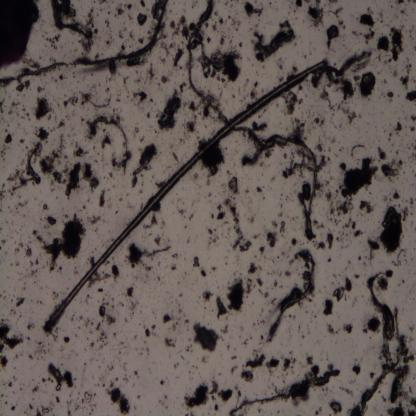Background material: (188, 0, 230, 124), (41, 215, 86, 274), (195, 39, 243, 83), (340, 155, 378, 199), (380, 204, 404, 256), (156, 91, 184, 131), (39, 133, 65, 175), (228, 206, 252, 251), (0, 169, 26, 207), (132, 143, 157, 178), (324, 190, 355, 218), (192, 322, 218, 354), (201, 146, 226, 176), (47, 364, 74, 391), (181, 384, 209, 410), (329, 98, 356, 124), (106, 386, 130, 414), (0, 322, 24, 350), (226, 279, 245, 314), (325, 4, 348, 31), (389, 26, 406, 62), (280, 159, 306, 182), (65, 162, 81, 198), (82, 91, 112, 110), (398, 334, 415, 365), (93, 318, 109, 350), (170, 15, 190, 40), (307, 0, 324, 29), (32, 338, 52, 362), (34, 97, 54, 121), (82, 164, 99, 192), (360, 71, 377, 99), (127, 242, 143, 267), (90, 269, 112, 287), (324, 24, 340, 48), (283, 91, 297, 117), (245, 354, 266, 370), (363, 316, 381, 334), (381, 163, 402, 178), (243, 3, 264, 18), (226, 11, 241, 31), (215, 296, 228, 318), (46, 34, 63, 50), (100, 131, 115, 149), (351, 141, 366, 159), (362, 26, 376, 45), (32, 229, 46, 248), (119, 359, 130, 383), (78, 40, 94, 56), (359, 11, 376, 26), (0, 144, 11, 167), (132, 344, 148, 359), (359, 199, 375, 214), (264, 229, 276, 249), (86, 213, 102, 228), (286, 62, 298, 82), (62, 94, 79, 108), (34, 128, 51, 142), (158, 39, 171, 57), (332, 284, 345, 302), (377, 35, 390, 53), (376, 144, 389, 162), (407, 134, 416, 160), (8, 100, 21, 118), (110, 152, 123, 170), (228, 173, 239, 194), (146, 62, 157, 83), (128, 297, 139, 318), (266, 358, 280, 374), (15, 79, 32, 92), (172, 48, 184, 66), (366, 238, 381, 252), (24, 55, 39, 69), (249, 80, 259, 101), (252, 121, 268, 134), (87, 6, 96, 29), (103, 292, 115, 309), (72, 395, 84, 412), (323, 298, 333, 318), (98, 187, 107, 209), (328, 399, 342, 413), (164, 336, 178, 350), (219, 389, 233, 403), (222, 194, 237, 207), (338, 385, 354, 397), (149, 213, 161, 229), (388, 402, 404, 414), (201, 288, 213, 304), (343, 275, 353, 294), (240, 370, 255, 382), (104, 30, 114, 48), (241, 333, 253, 348), (114, 1, 124, 19), (325, 323, 337, 338), (185, 120, 196, 136), (177, 204, 187, 221), (218, 322, 230, 336), (53, 170, 65, 184), (169, 317, 180, 332), (83, 290, 94, 305), (396, 1, 407, 16), (110, 264, 121, 279), (253, 337, 264, 352), (117, 26, 127, 42), (246, 278, 254, 298), (97, 303, 107, 319), (408, 394, 416, 414), (136, 13, 149, 25), (399, 74, 410, 88), (192, 256, 203, 270), (111, 107, 122, 121), (402, 204, 410, 223), (74, 144, 85, 157), (0, 356, 10, 370), (0, 181, 7, 201), (4, 132, 14, 146), (252, 318, 266, 328), (138, 90, 148, 104), (282, 359, 292, 373), (248, 262, 258, 276), (316, 116, 326, 130), (233, 383, 241, 400), (265, 269, 282, 277), (66, 399, 74, 416), (160, 394, 169, 409), (202, 107, 211, 122), (327, 232, 334, 251), (13, 348, 24, 360), (46, 215, 58, 226), (36, 83, 48, 94), (207, 235, 219, 246), (344, 222, 357, 232), (406, 88, 416, 101), (314, 140, 324, 153), (310, 366, 320, 379), (394, 121, 403, 135), (150, 323, 159, 337), (210, 380, 219, 394), (85, 402, 94, 416), (27, 320, 37, 332), (140, 262, 152, 272), (258, 288, 268, 300), (154, 233, 162, 248), (16, 296, 26, 308), (344, 322, 354, 334), (162, 314, 172, 326), (107, 314, 117, 326), (0, 97, 6, 116), (86, 254, 96, 265), (7, 308, 18, 318), (294, 117, 305, 127), (279, 250, 289, 261), (352, 365, 362, 376), (391, 191, 403, 200), (314, 240, 326, 249), (63, 112, 75, 121), (127, 30, 136, 42), (378, 392, 387, 404), (352, 228, 364, 237), (320, 88, 328, 101), (25, 247, 33, 260), (295, 0, 305, 10), (29, 268, 39, 278), (339, 160, 348, 171), (306, 355, 315, 366), (328, 135, 337, 146), (126, 287, 135, 298), (224, 0, 238, 7), (48, 178, 55, 192), (176, 302, 183, 316), (160, 74, 168, 86), (276, 58, 284, 70), (153, 202, 161, 214), (283, 267, 291, 279), (256, 276, 264, 288), (132, 176, 139, 189), (272, 276, 279, 289), (216, 212, 226, 221), (258, 110, 268, 119), (254, 185, 263, 195), (169, 262, 179, 271), (330, 217, 341, 225), (336, 229, 344, 240), (246, 213, 254, 224), (58, 119, 66, 130), (84, 394, 92, 405), (271, 382, 278, 394), (144, 326, 151, 338), (191, 170, 198, 182), (41, 405, 50, 414), (407, 123, 416, 132), (173, 361, 182, 370), (50, 292, 59, 301), (145, 110, 153, 120), (314, 406, 322, 416), (119, 340, 127, 350), (200, 355, 208, 365), (178, 82, 188, 90), (125, 3, 133, 13), (139, 133, 146, 144), (280, 219, 285, 234), (276, 210, 285, 218), (22, 114, 31, 122), (386, 90, 395, 98), (104, 17, 110, 29), (192, 0, 200, 9), (271, 219, 279, 228), (103, 75, 112, 83), (32, 384, 41, 392), (105, 363, 113, 372), (84, 316, 90, 328), (260, 244, 266, 256), (34, 406, 42, 415), (292, 356, 296, 374), (200, 269, 208, 278), (0, 292, 7, 302), (108, 170, 115, 180), (138, 36, 145, 46), (90, 83, 100, 90), (134, 369, 140, 380), (18, 200, 29, 206), (409, 195, 414, 208), (18, 159, 26, 167), (0, 314, 8, 322), (26, 352, 34, 360), (94, 52, 102, 60), (143, 224, 151, 232), (126, 14, 134, 22), (42, 203, 50, 211), (115, 94, 123, 102), (170, 40, 178, 48), (206, 228, 214, 236), (135, 77, 144, 84), (188, 212, 195, 221), (12, 247, 21, 254), (167, 141, 174, 150), (63, 336, 70, 345), (133, 124, 139, 134), (123, 75, 129, 85), (120, 42, 126, 52), (219, 36, 225, 46), (139, 198, 144, 210), (178, 136, 184, 146), (205, 176, 211, 186), (392, 260, 402, 266), (288, 257, 294, 267), (57, 345, 65, 352), (205, 37, 213, 44), (23, 240, 30, 248), (96, 285, 103, 293), (397, 158, 404, 166), (408, 324, 415, 332), (297, 97, 304, 105), (354, 273, 362, 280), (212, 22, 219, 30), (409, 114, 416, 122), (139, 0, 146, 8), (58, 73, 65, 81), (388, 131, 393, 142), (284, 194, 290, 203), (298, 84, 304, 93), (16, 258, 22, 267), (43, 224, 52, 230), (292, 237, 298, 246), (291, 215, 300, 221), (78, 116, 84, 125), (93, 27, 99, 36), (56, 395, 62, 404), (90, 340, 96, 349), (172, 252, 179, 259), (356, 254, 363, 261), (66, 133, 73, 140), (18, 139, 25, 146), (25, 335, 31, 343), (7, 380, 13, 388), (67, 350, 73, 358), (68, 139, 74, 147), (118, 300, 124, 308), (160, 378, 166, 386), (48, 56, 56, 62), (252, 233, 260, 239), (97, 0, 109, 4), (245, 187, 251, 195), (52, 334, 58, 342), (231, 355, 240, 360), (187, 343, 192, 352), (157, 259, 162, 268), (187, 234, 192, 243), (70, 313, 74, 324), (28, 403, 34, 410), (153, 129, 160, 135), (322, 387, 329, 393), (10, 405, 16, 412), (62, 213, 69, 219), (326, 155, 332, 162), (178, 292, 184, 299), (361, 260, 368, 266), (330, 273, 337, 279), (370, 372, 376, 379), (327, 256, 334, 262), (108, 380, 113, 388), (215, 404, 220, 412), (387, 198, 391, 208), (284, 151, 289, 159), (41, 376, 46, 384), (408, 383, 412, 393), (55, 326, 60, 334), (380, 16, 385, 24), (207, 191, 212, 199), (271, 298, 276, 306), (402, 277, 406, 286), (92, 158, 98, 164), (213, 11, 219, 17), (2, 239, 8, 245), (192, 364, 198, 370), (127, 44, 133, 50), (209, 212, 214, 219), (114, 374, 119, 381), (12, 375, 17, 382), (216, 371, 223, 376), (409, 211, 414, 218), (114, 207, 119, 214), (226, 343, 230, 351), (156, 274, 160, 282), (92, 383, 100, 387), (83, 347, 87, 355), (220, 17, 224, 25), (260, 306, 264, 314), (182, 311, 186, 319), (118, 195, 122, 203), (384, 194, 388, 202), (205, 21, 209, 29), (56, 101, 60, 109), (149, 97, 154, 103), (38, 216, 43, 222), (281, 378, 286, 384), (221, 76, 226, 82), (100, 382, 105, 388), (118, 349, 123, 355), (212, 396, 218, 401), (189, 410, 194, 416), (254, 22, 260, 27), (397, 282, 402, 288), (33, 196, 39, 201), (230, 92, 235, 98), (38, 56, 44, 61), (212, 265, 216, 272), (303, 53, 307, 60), (221, 221, 228, 225), (289, 349, 293, 356), (409, 219, 413, 226), (53, 112, 56, 121), (22, 104, 25, 113), (276, 255, 281, 260), (19, 243, 24, 248), (14, 207, 19, 212), (41, 32, 45, 38), (134, 335, 138, 341), (258, 407, 262, 413), (183, 320, 189, 324), (30, 258, 33, 266), (35, 257, 38, 265), (4, 400, 8, 406), (218, 204, 221, 212), (10, 262, 14, 268), (72, 71, 75, 79), (73, 376, 77, 382), (102, 127, 106, 133), (99, 6, 103, 12), (166, 237, 170, 243), (83, 361, 86, 369), (0, 207, 3, 214), (124, 316, 127, 323), (3, 87, 6, 94), (105, 87, 109, 92), (92, 146, 96, 151), (23, 280, 27, 285), (0, 393, 4, 398), (279, 284, 283, 289), (40, 286, 45, 290), (93, 391, 97, 396), (74, 332, 79, 336), (73, 48, 78, 52), (79, 316, 83, 321), (258, 266, 262, 271), (268, 0, 272, 5), (338, 148, 342, 153), (404, 257, 408, 262), (334, 152, 338, 157), (77, 391, 81, 396), (140, 174, 145, 178), (53, 78, 57, 83), (12, 293, 16, 298), (16, 92, 20, 97), (106, 10, 110, 15), (261, 196, 265, 201), (184, 224, 187, 230), (225, 254, 228, 260), (76, 140, 78, 149), (10, 297, 13, 303), (94, 246, 97, 252), (0, 227, 3, 233), (113, 332, 116, 338), (102, 175, 106, 179), (22, 287, 26, 291), (98, 352, 102, 356), (185, 412, 189, 416), (90, 375, 94, 379), (333, 62, 337, 66), (279, 193, 283, 197), (83, 205, 86, 210), (3, 381, 6, 386), (221, 337, 224, 342), (96, 12, 99, 17), (12, 390, 15, 395), (5, 219, 8, 224), (18, 315, 23, 318), (36, 298, 39, 303), (90, 320, 93, 325), (347, 259, 350, 264), (137, 394, 140, 399), (213, 227, 216, 232), (239, 42, 242, 47), (141, 180, 143, 187), (280, 204, 283, 208), (139, 191, 143, 194), (66, 286, 69, 290), (4, 129, 8, 132), (86, 337, 89, 341), (106, 177, 109, 181), (225, 262, 228, 266), (216, 285, 220, 288), (33, 281, 37, 284), (295, 16, 298, 20), (414, 173, 416, 178), (40, 300, 42, 305), (0, 245, 2, 250), (188, 370, 191, 373), (20, 388, 22, 392), (17, 318, 19, 322), (96, 358, 98, 362), (14, 366, 16, 370), (8, 206, 10, 210), (278, 410, 280, 414), (23, 93, 25, 97), (295, 42, 297, 46), (8, 124, 10, 128), (31, 379, 34, 381), (52, 414, 55, 416), (56, 196, 58, 199), (6, 394, 8, 397), (3, 290, 5, 293), (285, 374, 288, 376), (410, 258, 413, 260), (10, 210, 12, 213)
Cellulose filter fibre: (0, 1, 169, 90), (236, 128, 322, 242), (354, 271, 398, 415), (229, 368, 341, 416), (265, 250, 318, 344), (87, 116, 131, 173), (311, 48, 371, 89), (50, 1, 92, 40), (251, 24, 295, 60), (23, 141, 42, 188), (141, 244, 174, 258)
Diatom: (302, 183, 312, 201), (172, 151, 182, 164)
Hair: (42, 59, 328, 334)
Pen: (0, 0, 39, 69)
